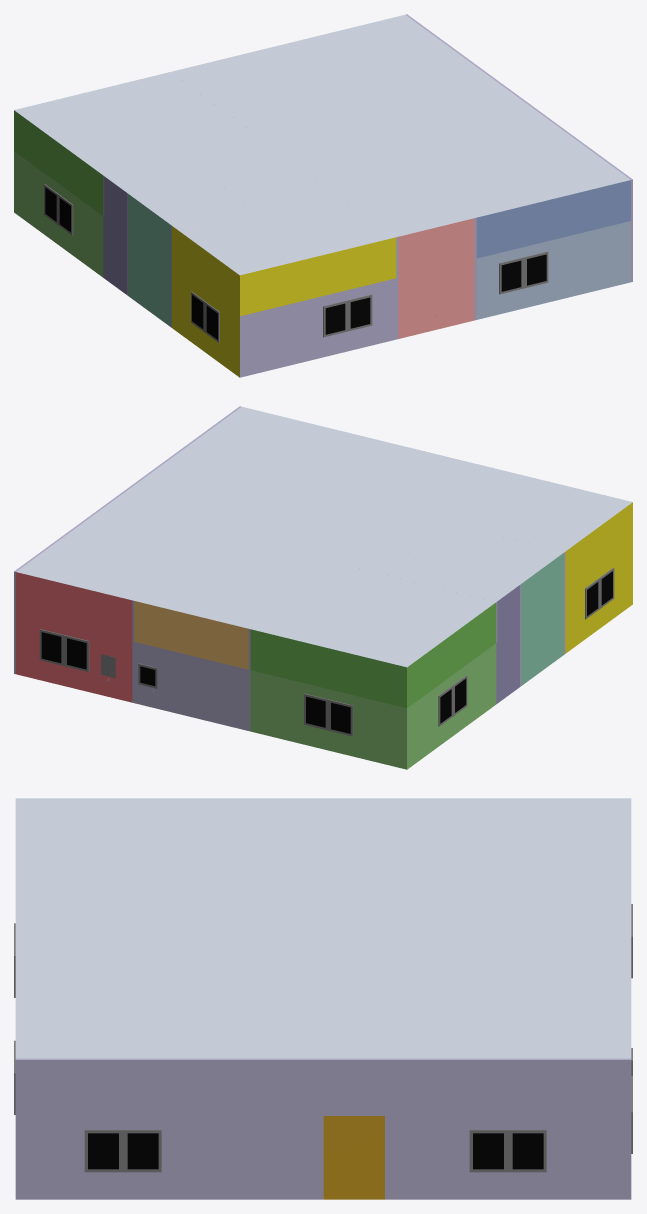
File: House.glb
The picture shows the model from 3 angles, top to bottom: view 1: azimuth 30°, elevation 25°; view 2: azimuth 150°, elevation 25°; view 3: azimuth 270°, elevation 25°; orthographic projection. The views are drawn at different scales.
Parts seen in each view (by area): view 1: I_Ceiling, I_Bedroom, I_Guest Room, I_Bathroom, I_Window, I_Wall; view 2: I_Ceiling, I_Bedroom, I_Wall, I_Kitchen, I_Window, I_Bathroom; view 3: I_Ceiling, I_Wall, I_Window, I_Door.
Boxes of the visible parts, box(x1,y1,x2,y2) form: I_Ceiling: box(14, 15, 630, 275); I_Bedroom: box(14, 110, 396, 377); I_Guest Room: box(476, 180, 630, 319); I_Bathroom: box(128, 194, 474, 338); I_Window: box(44, 184, 548, 342); I_Wall: box(103, 14, 632, 339); I_Ceiling: box(16, 407, 632, 667); I_Bedroom: box(248, 502, 632, 769); I_Wall: box(14, 406, 565, 714); I_Kitchen: box(134, 601, 248, 730); I_Window: box(39, 567, 614, 736); I_Bathroom: box(521, 553, 563, 685); I_Ceiling: box(15, 798, 631, 1058); I_Wall: box(15, 1058, 631, 1199); I_Window: box(14, 904, 632, 1172); I_Door: box(323, 1116, 384, 1199).
Bounding box in the file's own units: 40.4 × 10.01 × 40.2.
Materials: 1 (1 with a texture image).
